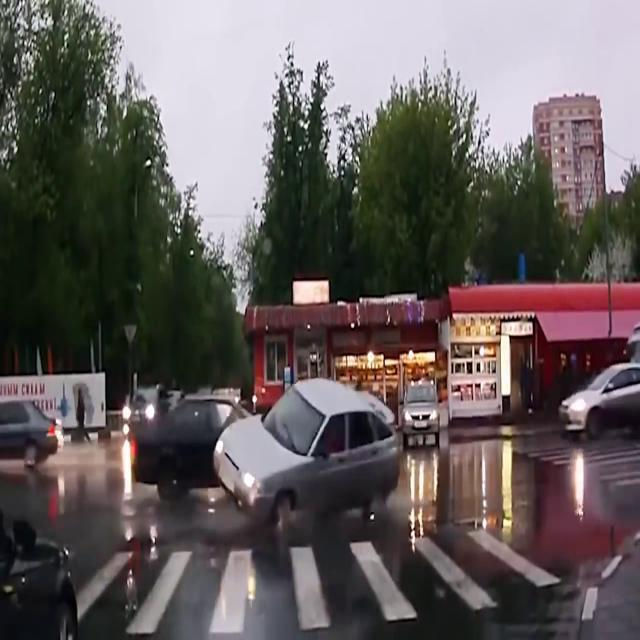accident: (128, 377, 408, 541)
